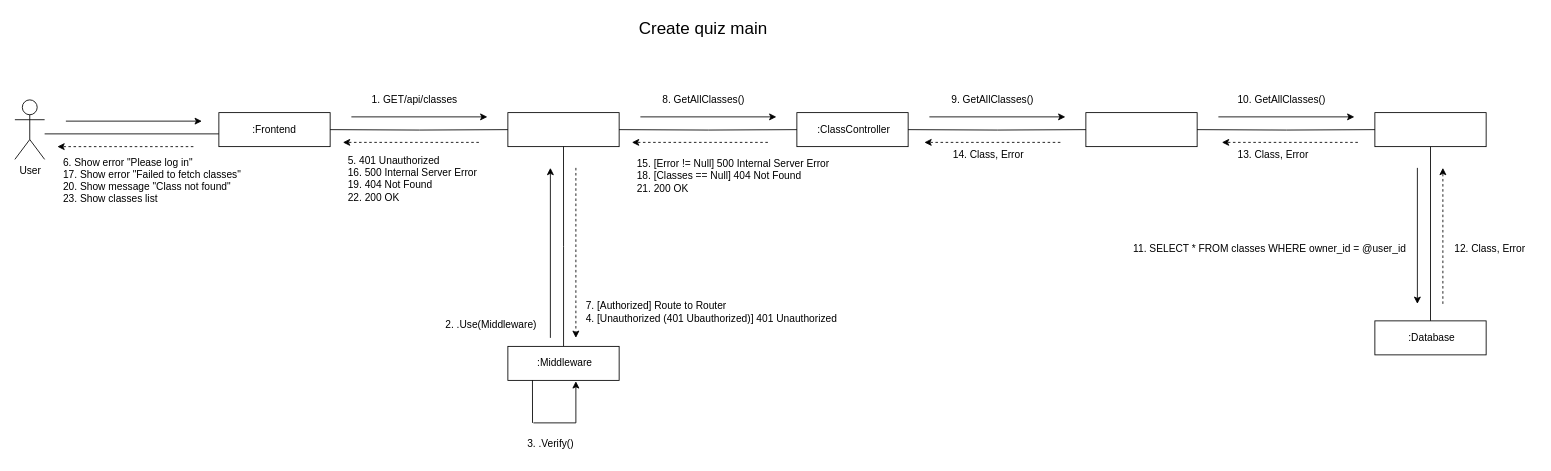
This 1551x471 diagram has some shape labels left out. The centre of each missing label's shape, as x and y in pixels:
:ClassRepository: pixel 1430 129
:ClassService: pixel 1141 129
:Router: pixel 563 129
